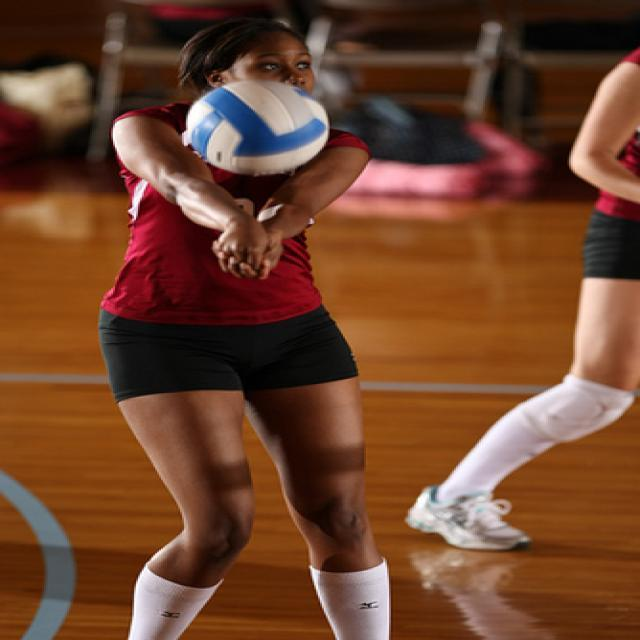volleyball: (188, 80, 329, 174)
